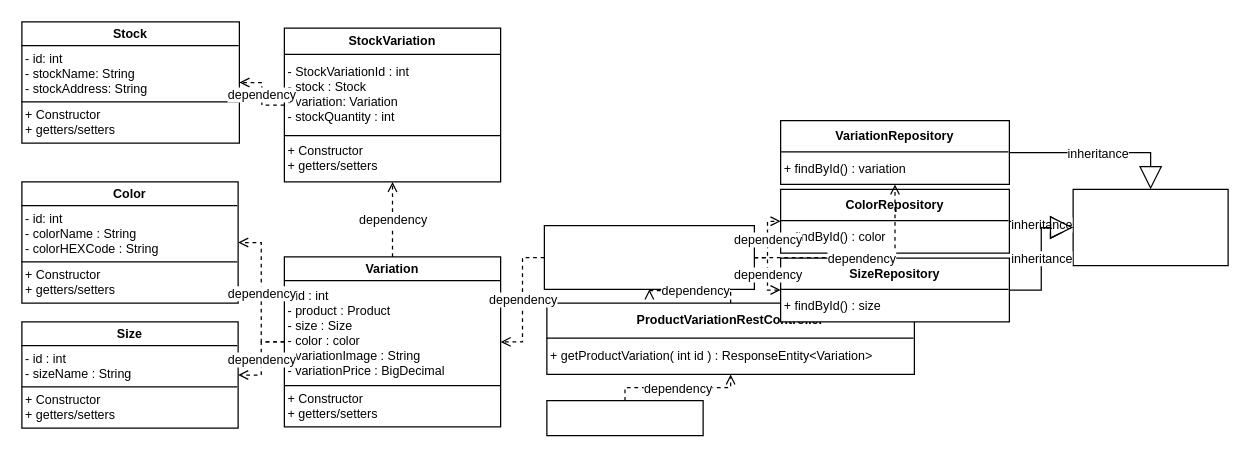
Some shapes in this 1250 by 458 pixel diagram are drawn without their labels. The centre of each missing label's shape, as x and y in pixels:
JpaRepository: the point at 1150,227
Product Dashboard: the point at 624,417
ProductVariationService + findById(int id) : Variation: the point at 648,256
